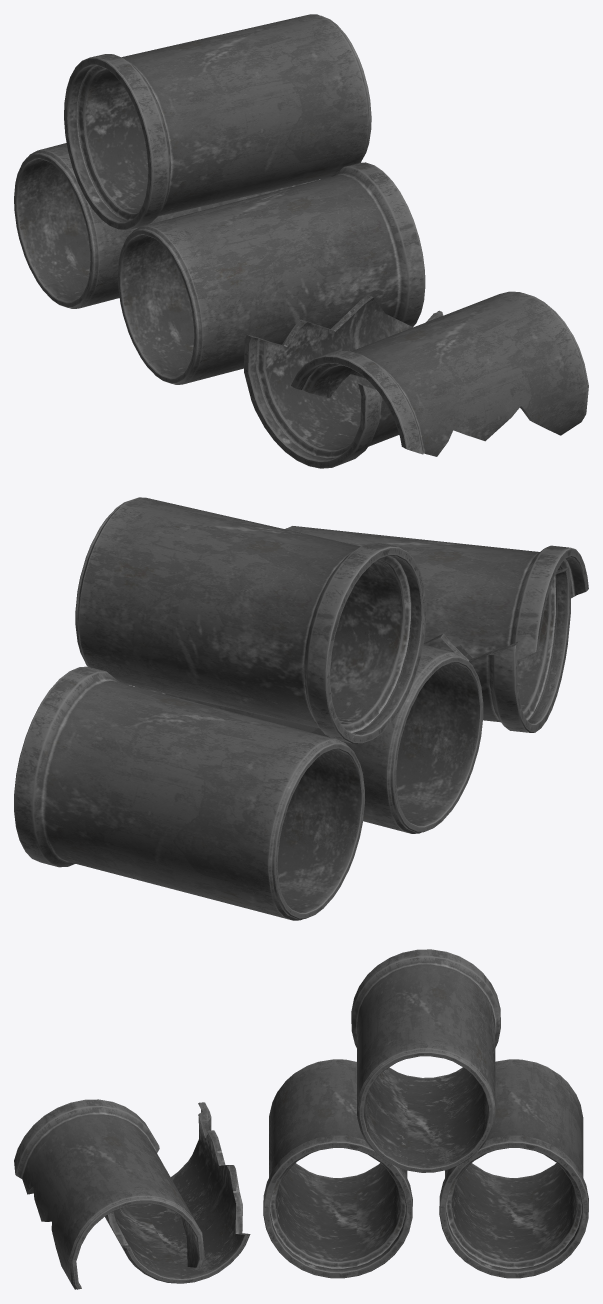
File: concrete_pipes (1).glb
The picture shows the model from 3 angles, top to bottom: view 1: azimuth 30°, elevation 25°; view 2: azimuth 150°, elevation 25°; view 3: azimuth 270°, elevation 25°; orthographic projection. The views are drawn at different scales.
Parts seen in each view (by area): view 1: Cylinder.081, Cylinder.085, Cylinder.087, Cylinder.090, Cylinder.082; view 2: Cylinder.082, Cylinder.081, Cylinder.085, Cylinder.087, Cylinder.090; view 3: Cylinder.081, Cylinder.082, Cylinder.085, Cylinder.087, Cylinder.090.
Part boxes in pixels (box(x1,y1,x2,y2)): Cylinder.081: box(64, 14, 371, 230); Cylinder.085: box(117, 162, 425, 384); Cylinder.087: box(291, 291, 588, 456); Cylinder.090: box(244, 295, 443, 468); Cylinder.082: box(14, 143, 318, 308); Cylinder.082: box(14, 666, 364, 920); Cylinder.081: box(75, 497, 426, 743); Cylinder.085: box(135, 644, 483, 833); Cylinder.087: box(285, 526, 588, 659); Cylinder.090: box(423, 567, 570, 732); Cylinder.081: box(351, 949, 500, 1172); Cylinder.082: box(439, 1059, 588, 1278); Cylinder.085: box(263, 1059, 412, 1278); Cylinder.087: box(14, 1099, 204, 1289); Cylinder.090: box(105, 1102, 250, 1283).
Size of the model in its own units: 1.23 by 1.19 by 2.61.
Materials: 1 (1 with a texture image).
